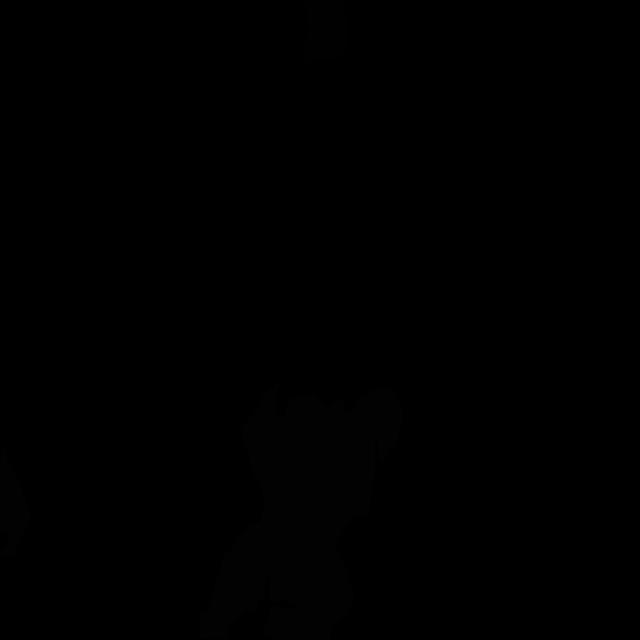cardboard: (198, 381, 404, 639), (0, 442, 32, 559)
rigid_plastic: (302, 0, 349, 70)
